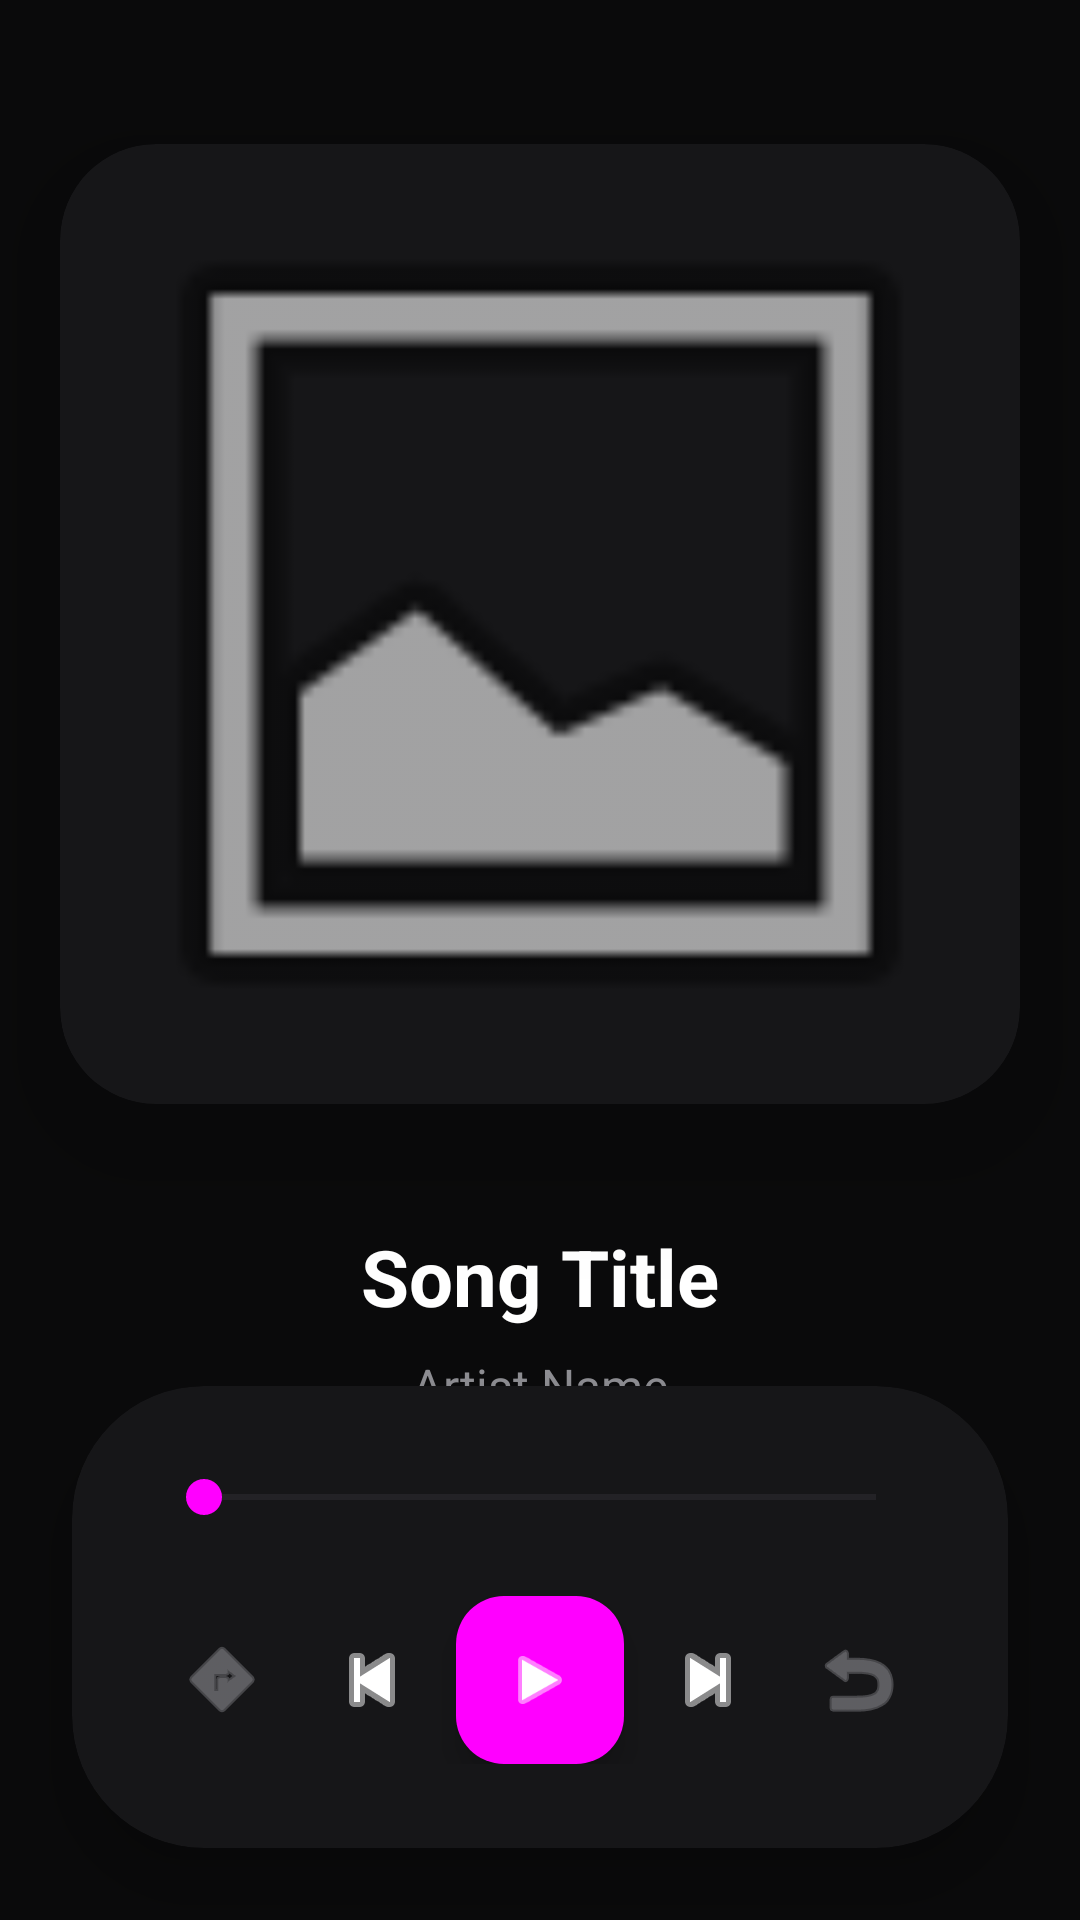

Where icons sit on this 1080w x 1920h app screen, as box=[x1, y1, x2, y2]:
directions: box=[189, 1647, 255, 1712]
next: box=[685, 1653, 731, 1707]
play: box=[456, 1596, 624, 1764]
previous: box=[349, 1653, 395, 1707]
revert: box=[825, 1650, 894, 1712]
